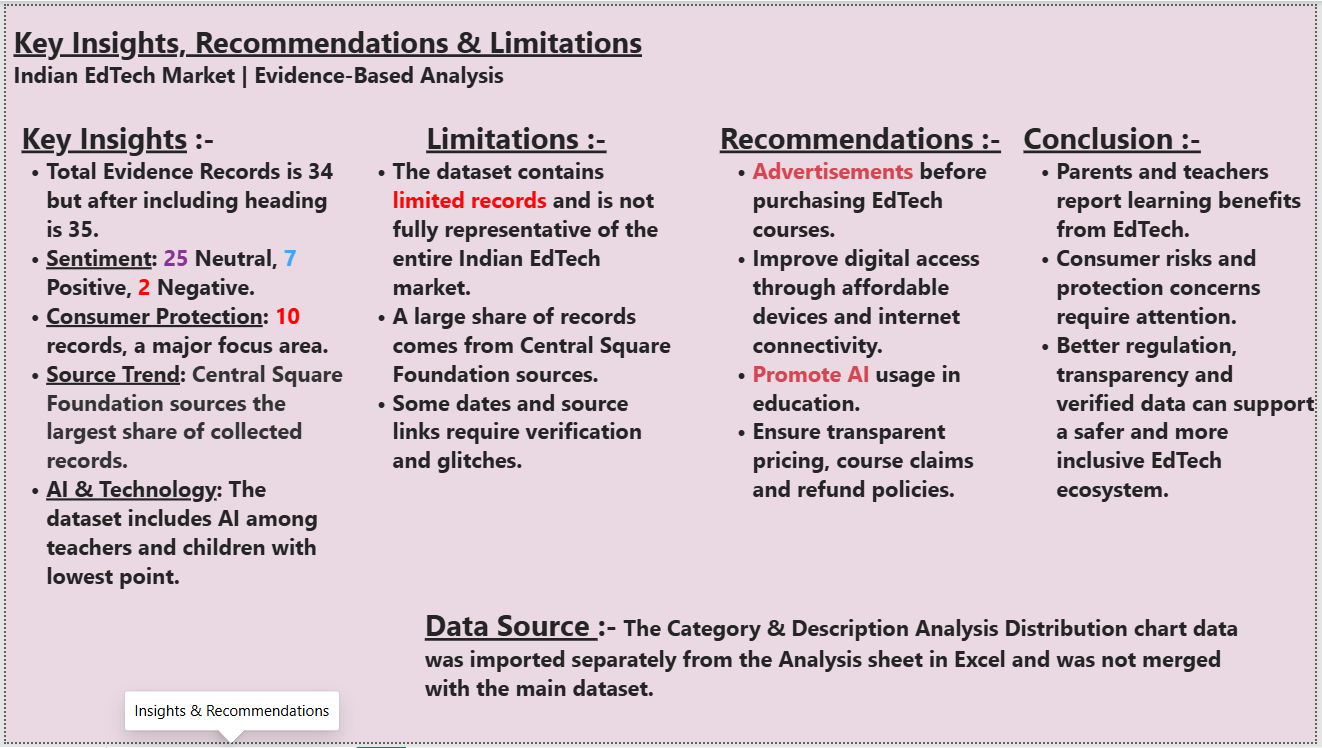

Layout of this report page (visuals, bound fields, positions):
{"tool":"powerbi","page":{"name":"Insights & Recommendations","canvas":[1920,1080],"ordinal":1},"visuals":[{"type":"textbox","box":[10.9,21.7,968.2,110.4],"z":0},{"type":"textbox","box":[10.9,162.9,485,848.7],"z":1000},{"type":"textbox","box":[1047.8,162.9,414.4,848.7],"z":2000},{"type":"textbox","box":[519.4,162.9,459.7,848.7],"z":3000},{"type":"textbox","box":[1493,162.9,427.1,754.6],"z":4000},{"type":"textbox","box":[614.6,878.6,1201.1,175.3],"z":5000}]}

Visuals, with their boxes on the page's 1920x1080 design canvas (x1, y1, x2, y2). These are canvas units, not pixel positions in the 1322x748 screenshot, which may show the page scaled, cropped or inside an application window:
textbox: box(11, 22, 979, 132)
textbox: box(11, 163, 496, 1012)
textbox: box(1048, 163, 1462, 1012)
textbox: box(519, 163, 979, 1012)
textbox: box(1493, 163, 1920, 918)
textbox: box(615, 879, 1816, 1054)
